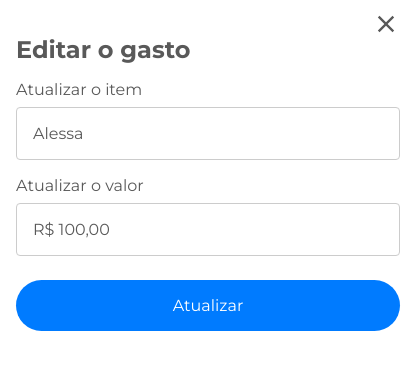
Test: Edit component › should display error message when value input is empty
Clear the field with test id "testvalueItem" at point(208, 230), box [16,203,400,256]
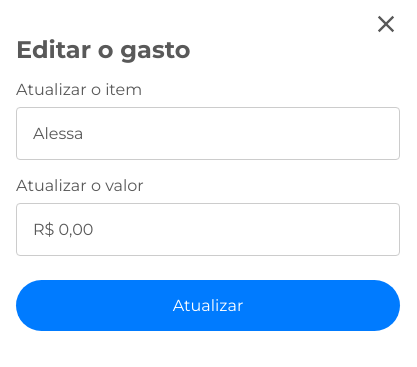
Click the button "Atualizar".
click(208, 306)  # box [16,280,400,331]
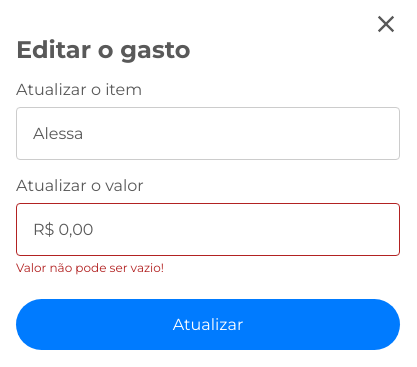
Expected: the text "Valor não pode ser vazio!" is shown, [16,260,164,275]
